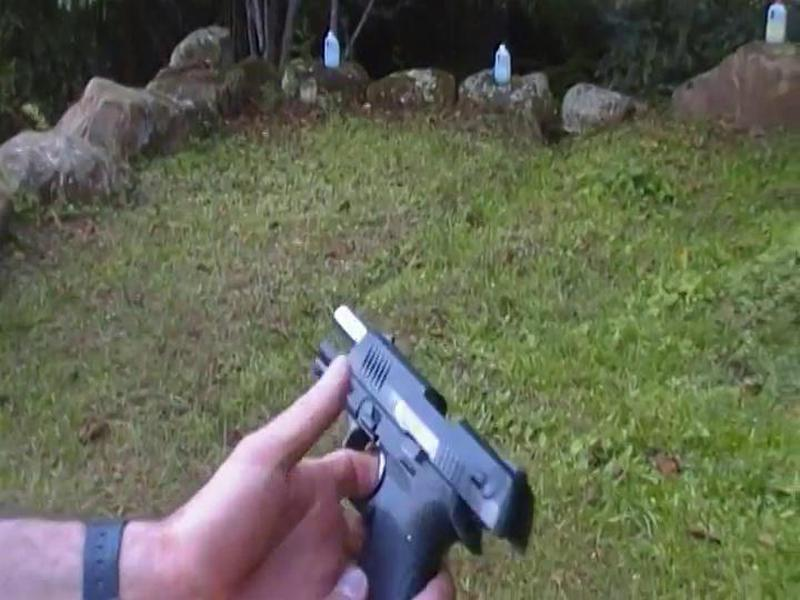Pistola: (286, 327, 538, 600)
